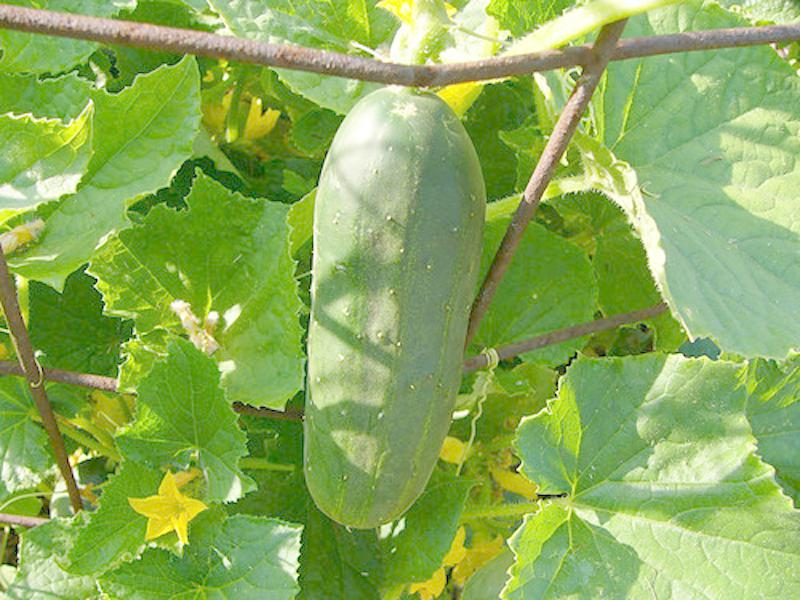Cucumber: (302, 86, 490, 530)
